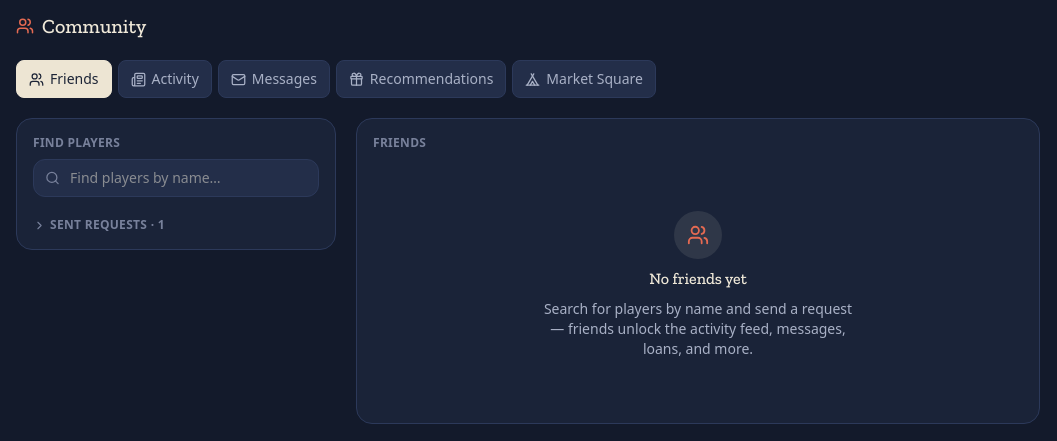
Test: Friends section › tucks sent requests behind a collapsed disclosure
Expected: the button "Cancel" is not shown
Click the button "Sent requests · 1": (104, 224) [33,217,319,233]
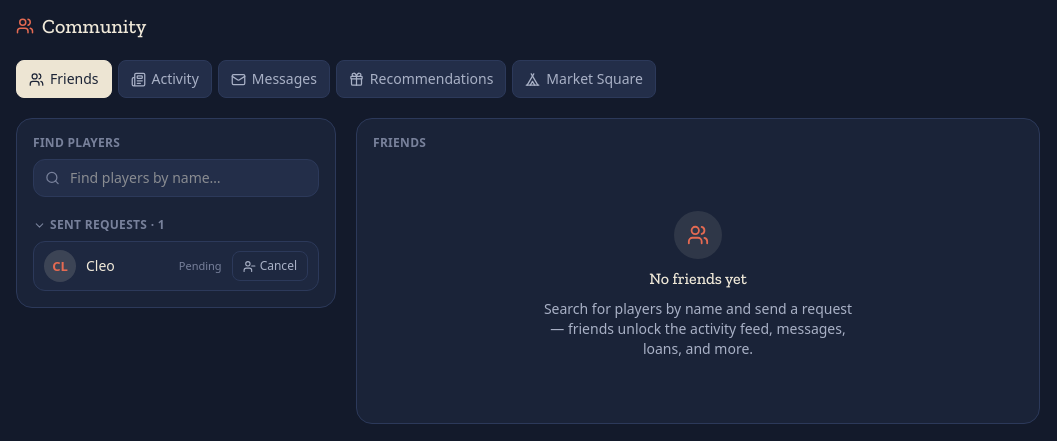
Expected: the button "Cancel" is shown, [232,251,308,281]
Expected: the text "Cleo" is shown, [86,256,115,275]
